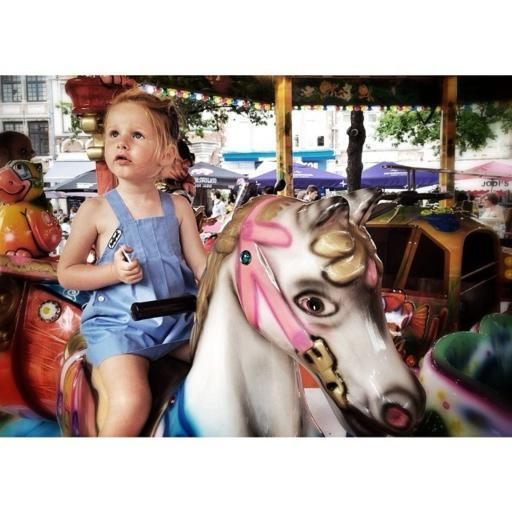horse: (2, 186, 428, 438)
